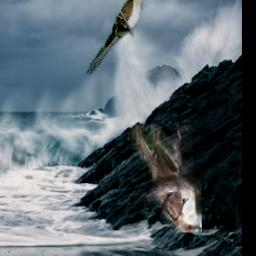Cuckoo: (127, 125, 203, 232), (85, 0, 150, 79)
